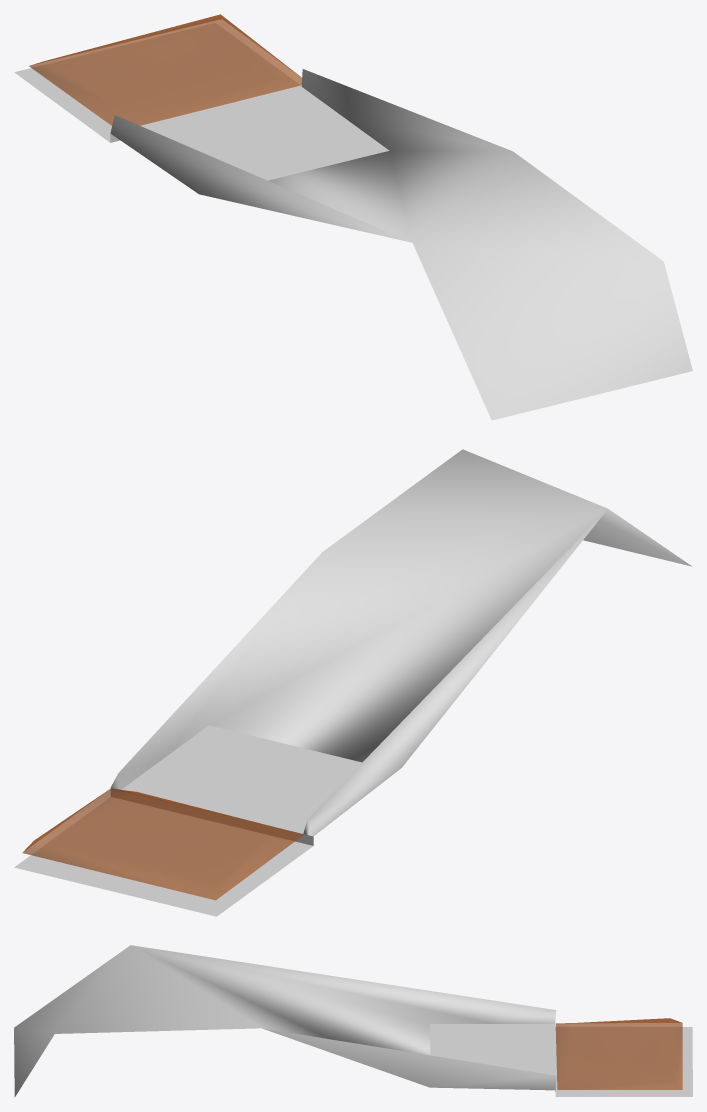
File: RespawnPointModel_LOD2.fbx
3 renders of one model, top to bottom at view 1: azimuth 30°, elevation 25°; view 2: azimuth 150°, elevation 25°; view 3: azimuth 270°, elevation 25°, orthographic. The views are drawn at different scales.
Visible parts, largest first — view 1: Cube.011, Cube.012; view 2: Cube.011, Cube.012; view 3: Cube.011, Cube.012.
Boxes of the visible parts, <box> form: Cube.011: <box>14,23,692,420</box>; Cube.012: <box>29,14,301,125</box>; Cube.011: <box>14,449,691,916</box>; Cube.012: <box>22,788,303,900</box>; Cube.011: <box>14,945,692,1097</box>; Cube.012: <box>555,1018,682,1089</box>.
Size of the model in its own units: 1053 by 580 by 4271.
